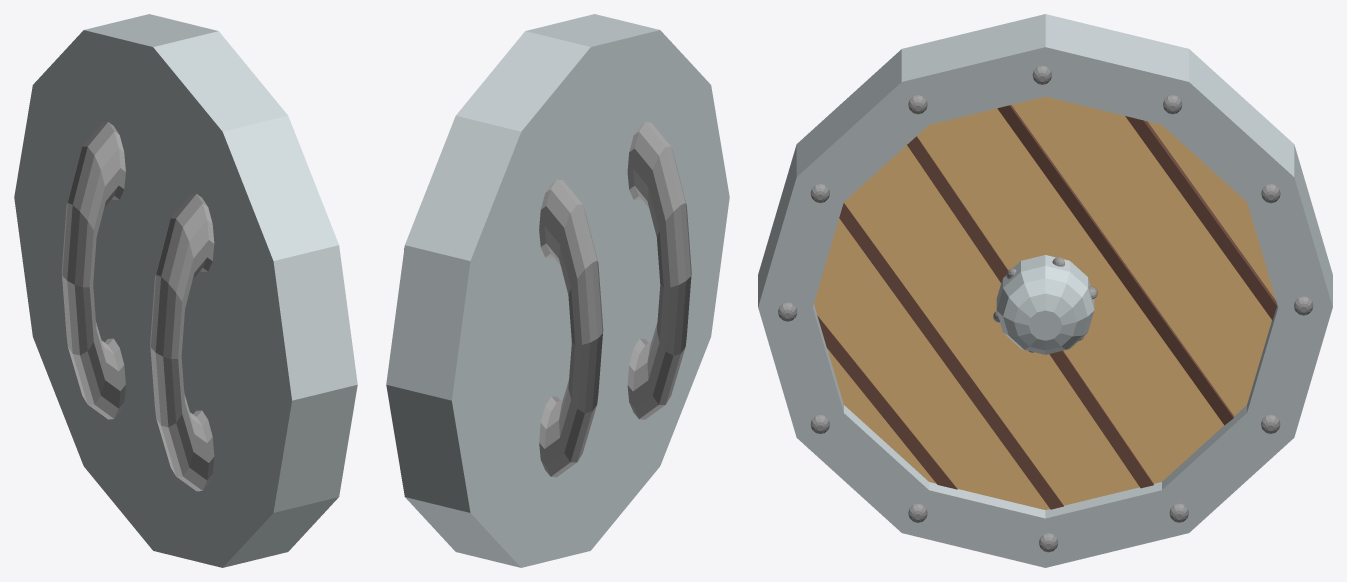
File: wooden-shield-by-jarlan-perez-0uun1lQOHmj.glb
The picture shows the model from 3 angles, left to right: view 1: azimuth 30°, elevation 25°; view 2: azimuth 150°, elevation 25°; view 3: azimuth 270°, elevation 25°; orthographic projection. The views are drawn at different scales.
Visible parts, largest first — view 1: Node; view 2: Node; view 3: Node.
Part boxes in pixels (x1,y1,x2,y2): Node: (14, 14, 357, 567); Node: (386, 14, 729, 567); Node: (758, 14, 1332, 567).
Size of the model in its own units: 0.275 by 0.88 by 0.88.
